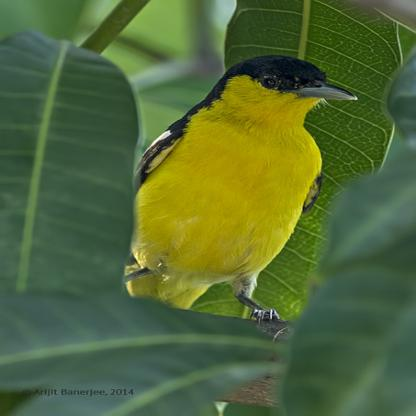Burung: (132, 55, 358, 324)
